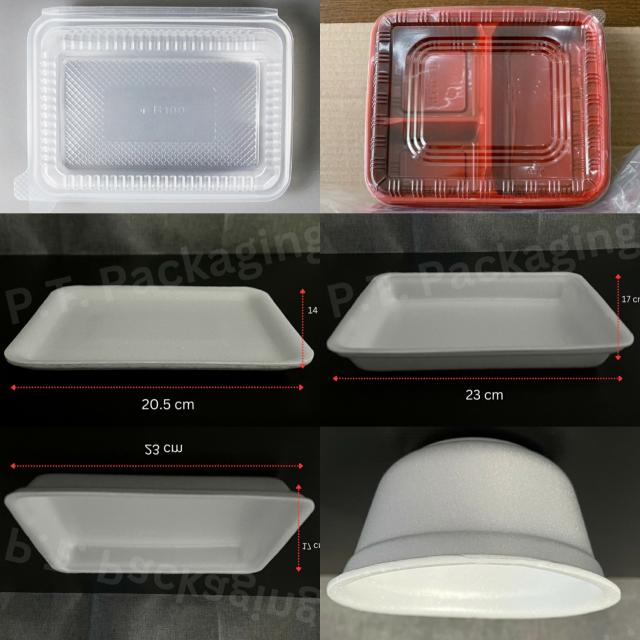Single-Use-Plastic: (20, 6, 293, 202), (327, 438, 619, 618), (365, 8, 610, 208), (5, 474, 314, 573), (327, 272, 634, 371), (5, 285, 314, 370)
